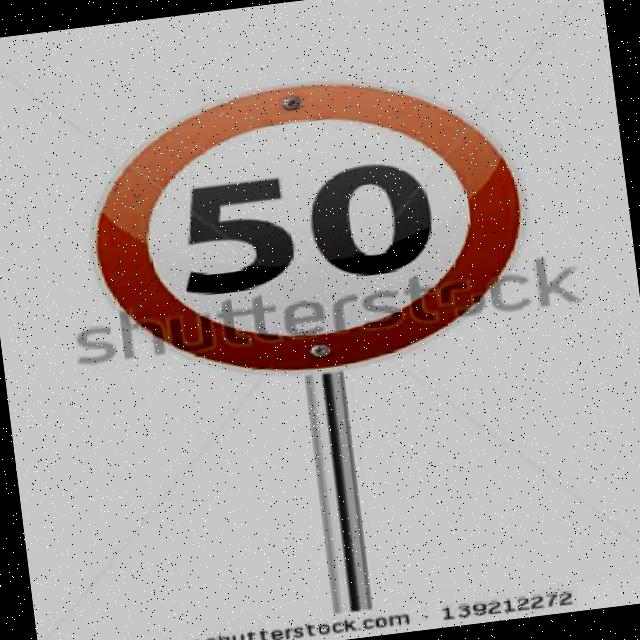Ograniczenie predkosci do 50: (120, 81, 498, 365)
